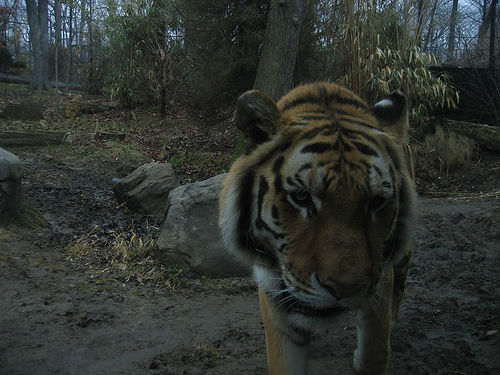Tigre: (212, 78, 441, 375)
